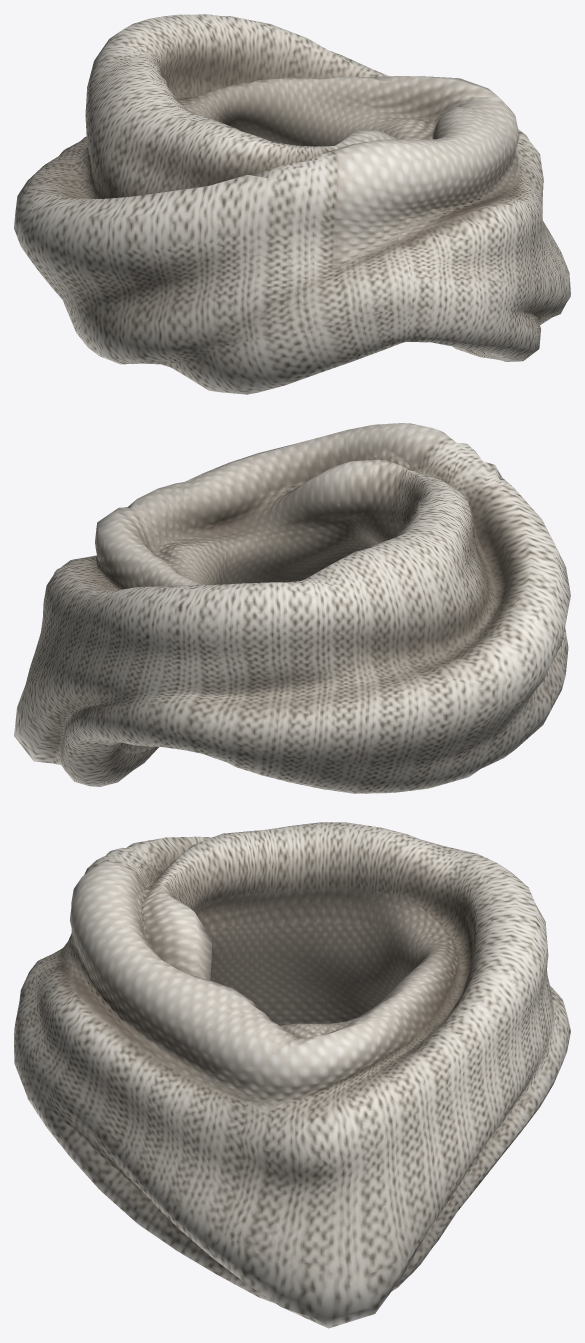
The model's file is Knitted_Round_Scarf.glb.
3 views of the same model, one above another, from view 1: azimuth 30°, elevation 25°; view 2: azimuth 150°, elevation 25°; view 3: azimuth 270°, elevation 25° (orthographic). The views are drawn at different scales.
Visible parts, largest first — view 1: shawl_lambert2_0; view 2: shawl_lambert2_0; view 3: shawl_lambert2_0.
Part boxes in pixels (left/top/right/bottom): shawl_lambert2_0: left=14, top=14, right=570, bottom=394; shawl_lambert2_0: left=14, top=423, right=570, bottom=793; shawl_lambert2_0: left=14, top=822, right=570, bottom=1328.
Bounding box in the file's own units: 0.2768 × 0.1673 × 0.2543.
Materials: 1 (1 with a texture image).
